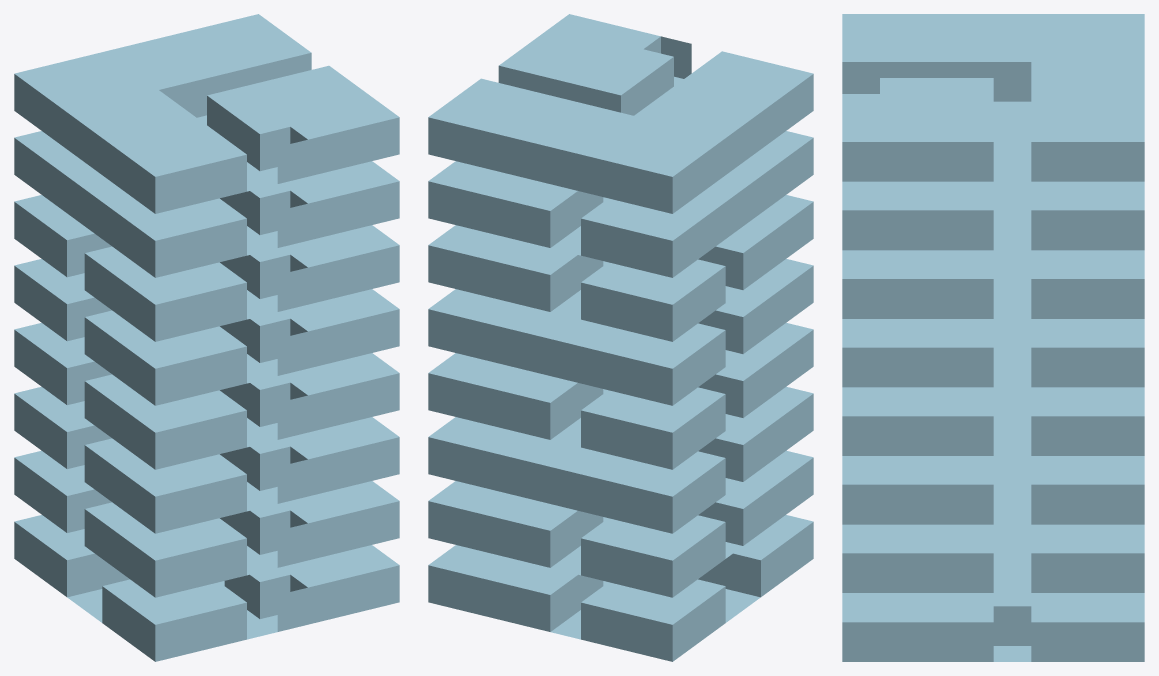
Rendered from 3DmapRetry.glb.
The picture shows the model from 3 angles, left to right: view 1: azimuth 30°, elevation 25°; view 2: azimuth 150°, elevation 25°; view 3: azimuth 270°, elevation 25°; orthographic projection. The views are drawn at different scales.
Parts seen in each view (by area): view 1: F8, F1, F2, F5, F6, F4, F3, F7; view 2: F8, F1, F2, F5, F6, F4, F3, F7; view 3: F8, F7, F1, F2, F3, F4, F5, F6.
Part boxes in pixels (left/top/right/bottom): F8: left=14, top=14, right=399, bottom=213; F1: left=14, top=515, right=399, bottom=661; F2: left=14, top=450, right=399, bottom=597; F5: left=14, top=259, right=399, bottom=405; F6: left=14, top=195, right=399, bottom=341; F4: left=14, top=322, right=399, bottom=469; F3: left=14, top=386, right=399, bottom=533; F7: left=14, top=131, right=399, bottom=277; F8: left=428, top=14, right=813, bottom=213; F1: left=428, top=515, right=813, bottom=661; F2: left=428, top=450, right=813, bottom=597; F5: left=428, top=259, right=813, bottom=405; F6: left=428, top=195, right=813, bottom=341; F4: left=428, top=322, right=813, bottom=469; F3: left=428, top=386, right=813, bottom=533; F7: left=428, top=131, right=813, bottom=277; F8: left=842, top=14, right=1144, bottom=181; F7: left=842, top=181, right=1144, bottom=250; F1: left=842, top=593, right=1144, bottom=661; F2: left=842, top=524, right=1144, bottom=592; F3: left=842, top=456, right=1144, bottom=524; F4: left=842, top=387, right=1144, bottom=455; F5: left=842, top=319, right=1144, bottom=387; F6: left=842, top=250, right=1144, bottom=318.
Size of the model in its own units: 20 by 37.92 by 20.
